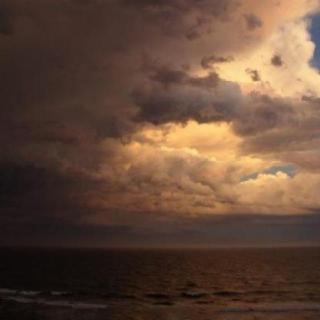Cumulonimbus: (0, 0, 320, 242)
